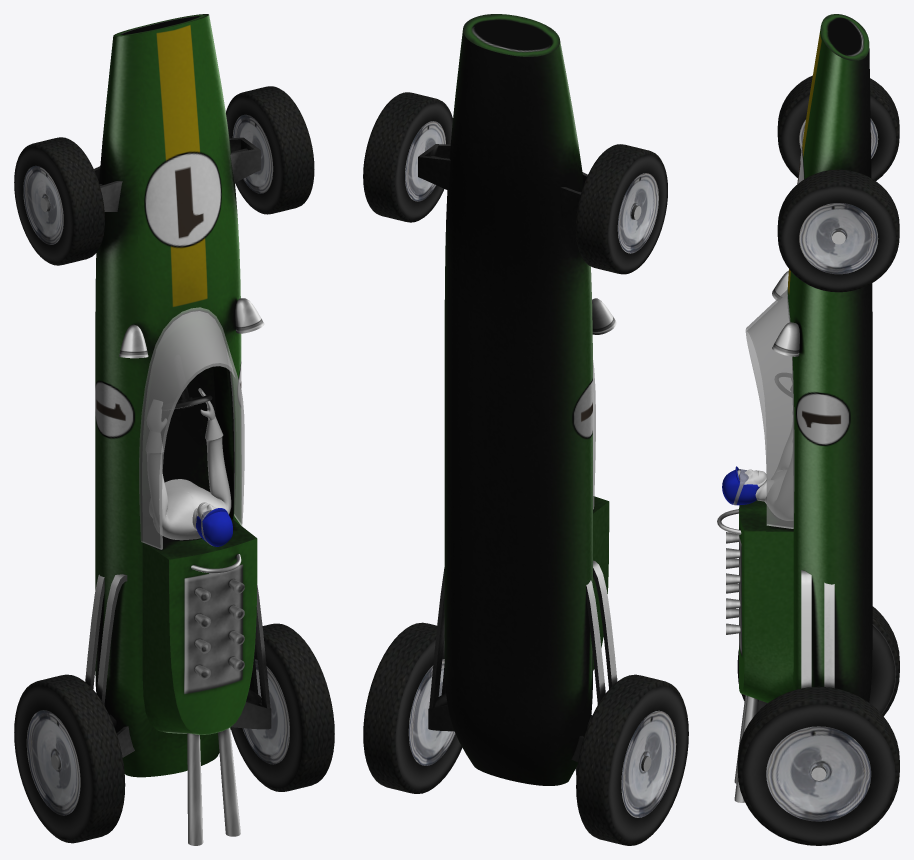
File: ToyRaceCar.glb
3 renders of one model, left to right at view 1: azimuth 30°, elevation 25°; view 2: azimuth 150°, elevation 25°; view 3: azimuth 270°, elevation 25°, orthographic. The views are drawn at different scales.
Parts seen in each view (by area): view 1: 10609_toy_race_car_SG_v1_Iterations-2; view 2: 10609_toy_race_car_SG_v1_Iterations-2; view 3: 10609_toy_race_car_SG_v1_Iterations-2.
Part boxes in pixels (x1,y1,x2,y2): 10609_toy_race_car_SG_v1_Iterations-2: (14, 14, 334, 845); 10609_toy_race_car_SG_v1_Iterations-2: (363, 14, 688, 845); 10609_toy_race_car_SG_v1_Iterations-2: (717, 14, 899, 845).
Bounding box in the file's own units: 3.17 × 9.79 × 2.13.
Materials: 2 (1 with a texture image).
